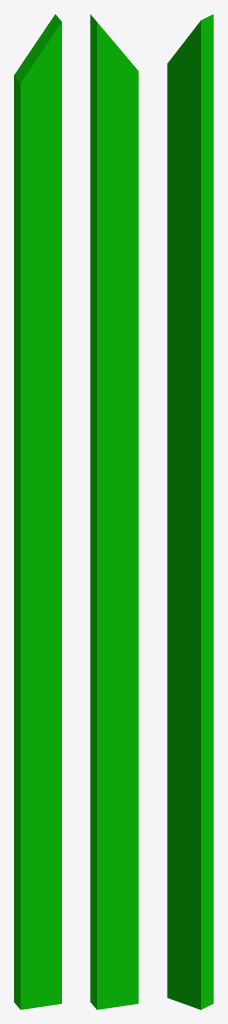
3 renders of one model, left to right at view 1: azimuth 30°, elevation 25°; view 2: azimuth 210°, elevation 25°; view 3: azimuth 330°, elevation 25°, orthographic.
Parts seen in each view (by area): view 1: Cube.020; view 2: Cube.020; view 3: Cube.020.
Boxes of the visible parts, x1=… form: Cube.020: x1=14, y1=14, x2=61, y2=1009; Cube.020: x1=90, y1=14, x2=138, y2=1009; Cube.020: x1=167, y1=14, x2=213, y2=1009.
Size of the model in its own units: 532 by 12354 by 312.
